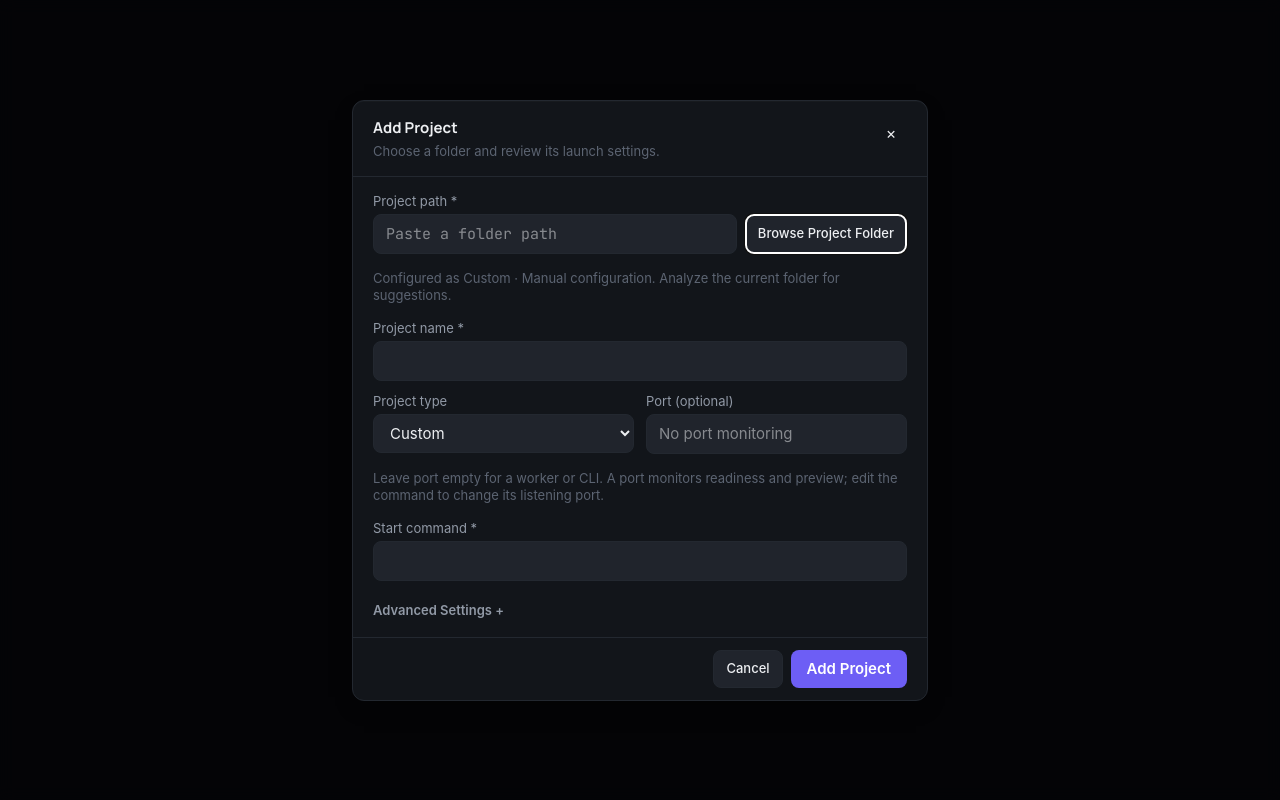
it: AP13 editing path invalidates the detected summary
The image size is (1280, 800).
Click the button "Browse Project Folder" at coordinates (826, 234), box [745,214,907,254]
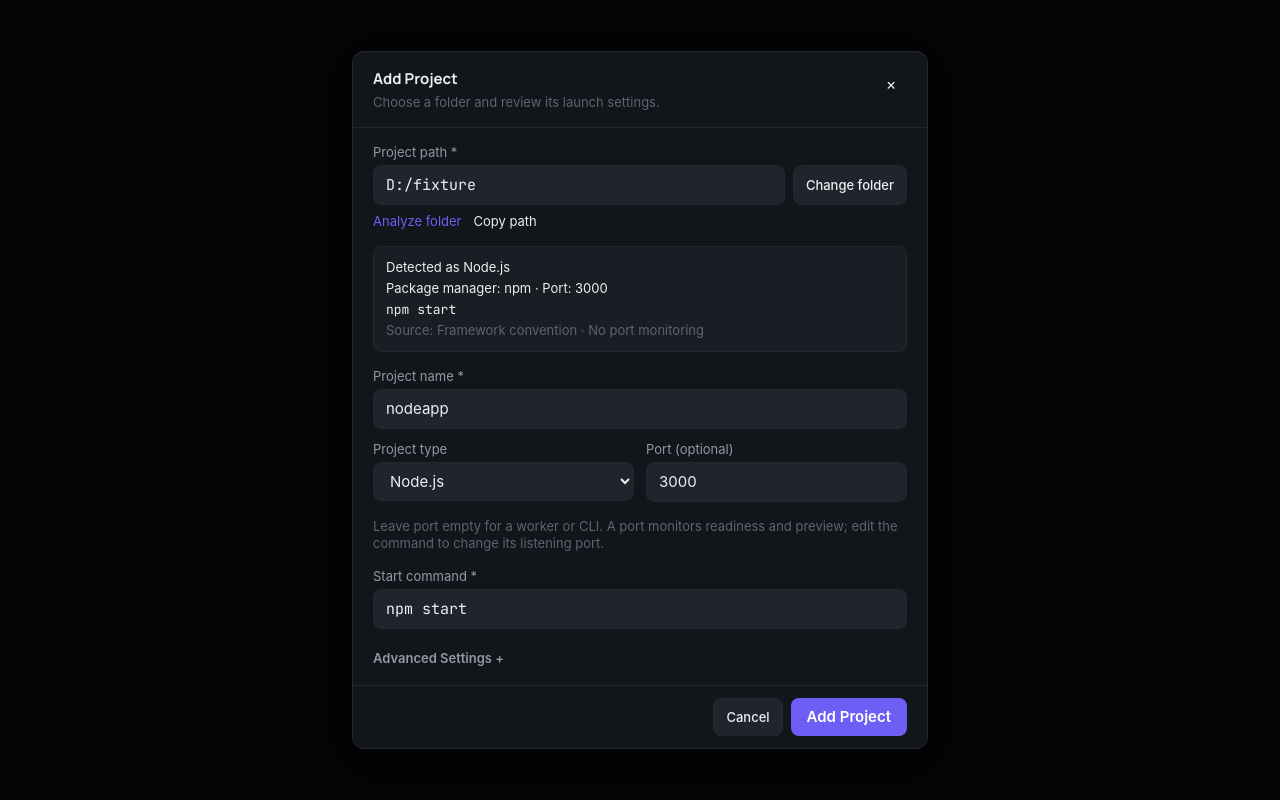
Expected: the text "Detected as Node.js" is shown, [386,259,510,275]
Click the button "Advanced Settings +" at coordinates (432, 658), box [373,650,907,667]
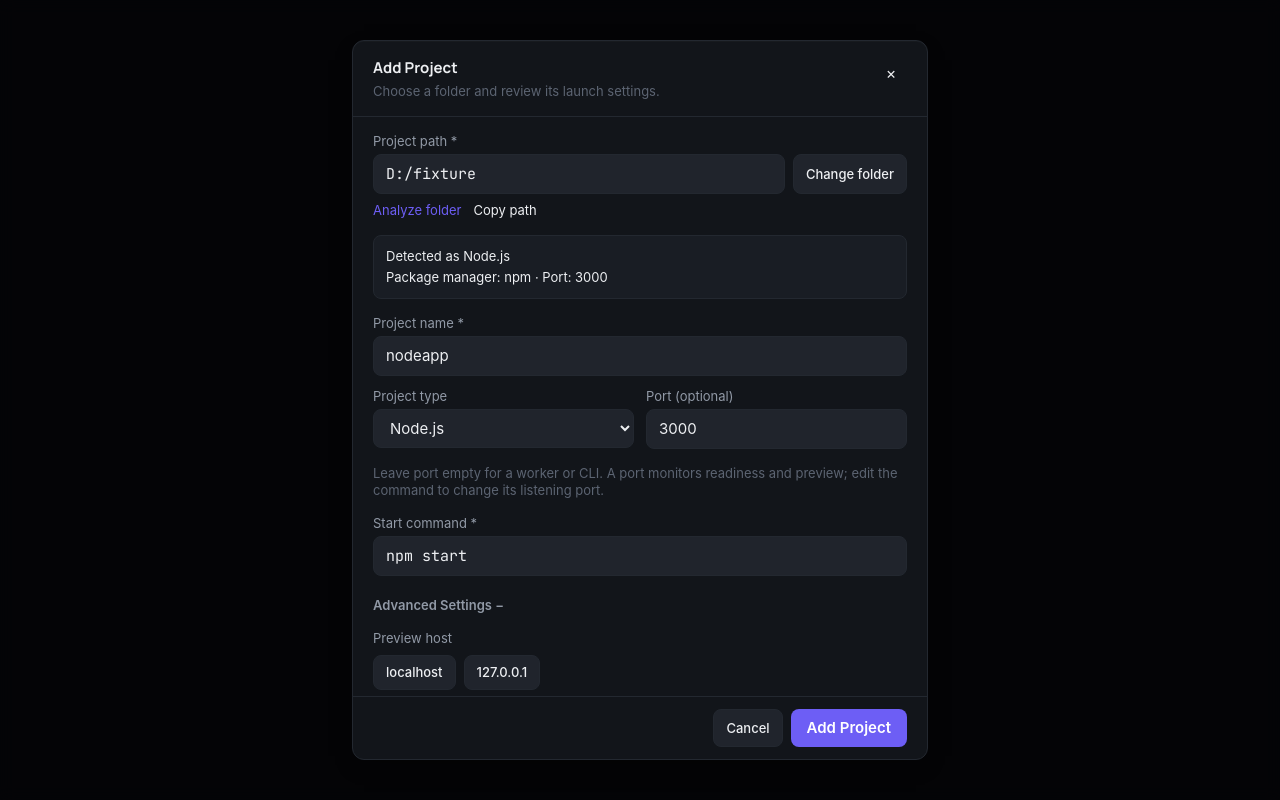
Replace the text in the field labelled "Project path *" with "D:/different-project" at coordinates (579, 174), box [373,154,785,194]
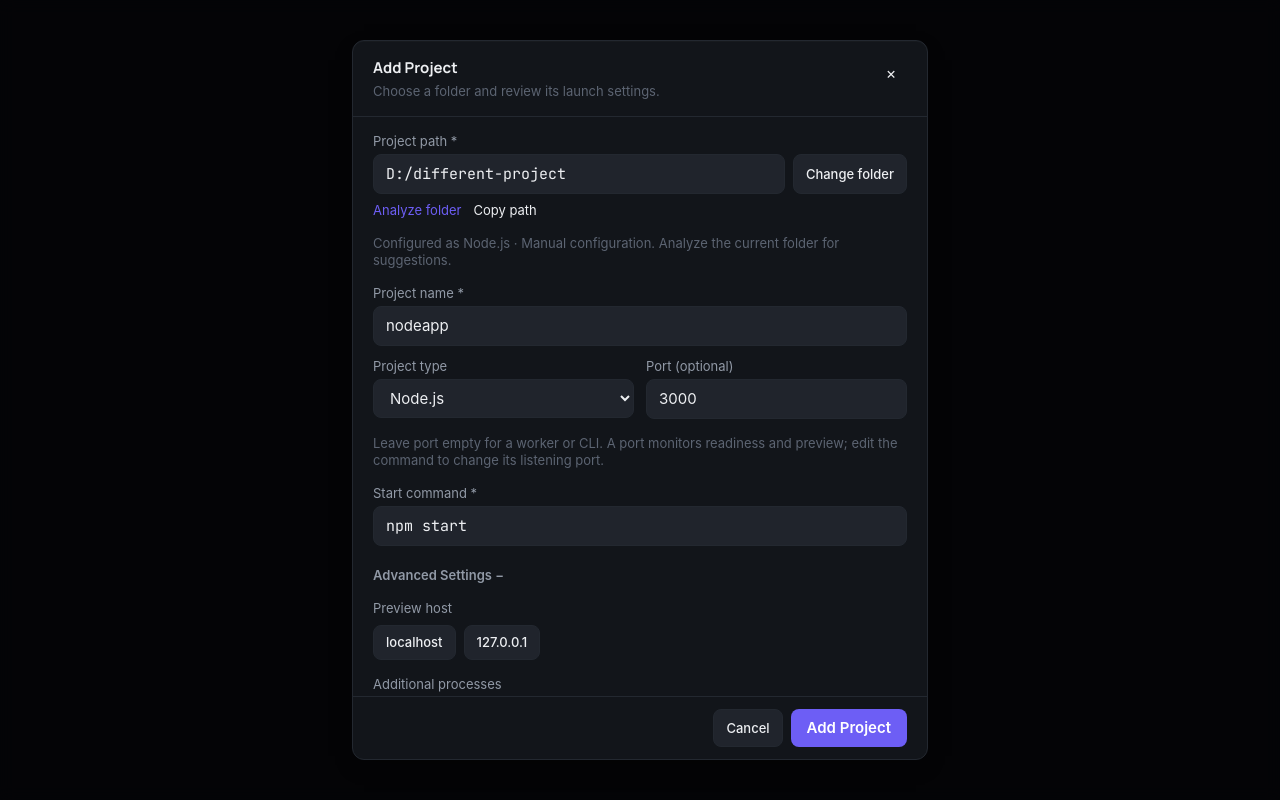
Expected: the text "Detected as Node.js" is gone
Expected: the text "Manual configuration" is shown, [373,235,839,268]
